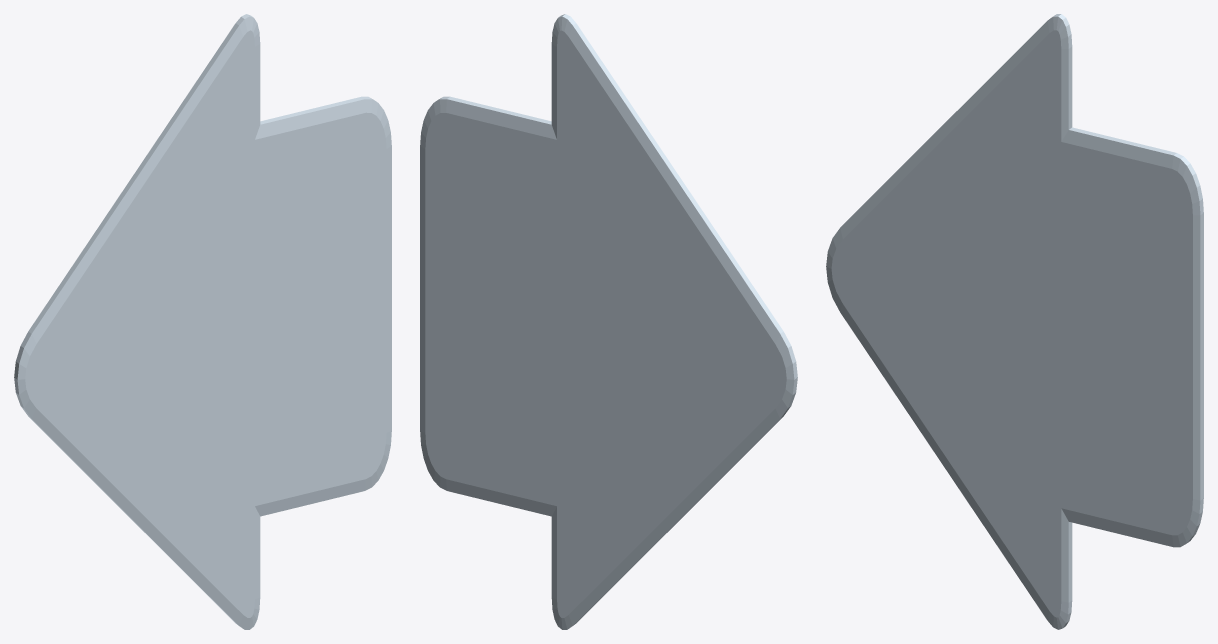
File: Arrow_3D_Icon_02.fbx
The picture shows the model from 3 angles, left to right: view 1: azimuth 30°, elevation 25°; view 2: azimuth 150°, elevation 25°; view 3: azimuth 330°, elevation 25°; orthographic projection.
Visible parts, largest first — view 1: Arrow_3D_Icon_02.001; view 2: Arrow_3D_Icon_02.001; view 3: Arrow_3D_Icon_02.001.
Part boxes in pixels (box(x1,y1,x2,y2)): Arrow_3D_Icon_02.001: box(14, 14, 391, 629); Arrow_3D_Icon_02.001: box(420, 14, 797, 629); Arrow_3D_Icon_02.001: box(826, 14, 1203, 629).
Size of the model in its own units: 76.08 by 119 by 2.
